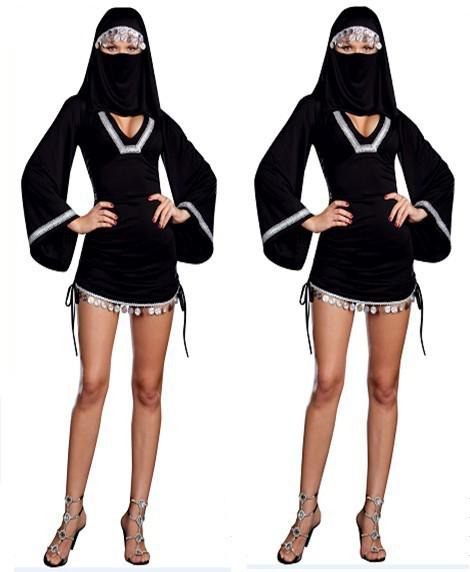OK: (99, 34, 148, 83), (339, 40, 383, 82)
